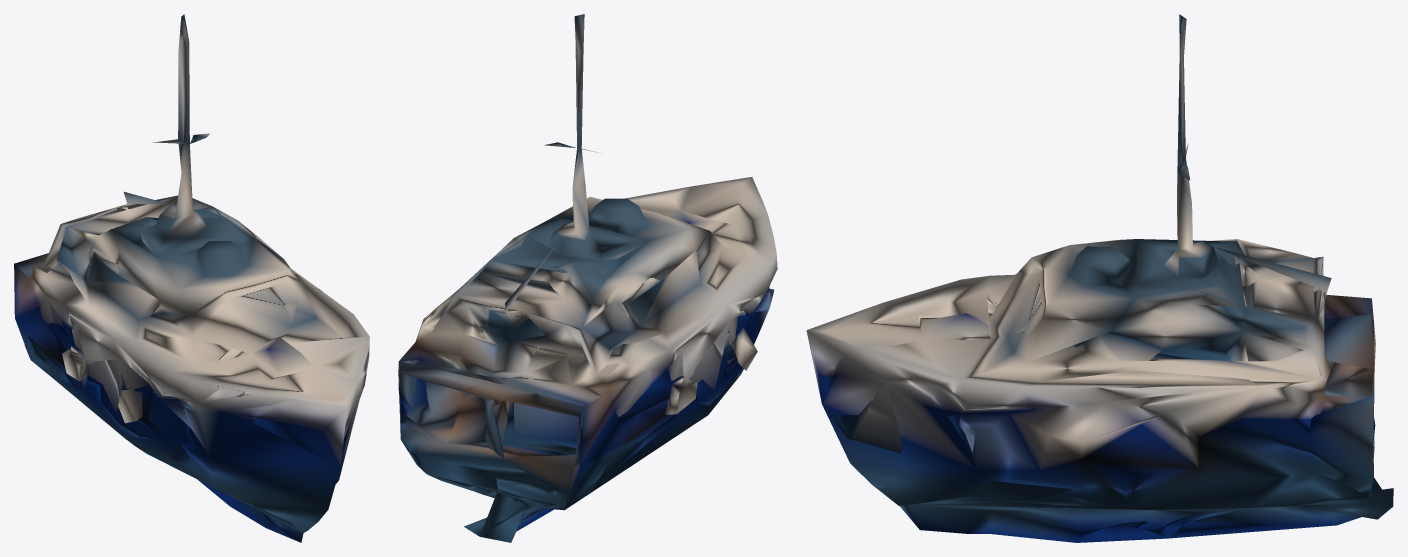
Rendered from gen3d-yacht-lod1.glb.
3 views of the same model, side by side, from view 1: azimuth 30°, elevation 25°; view 2: azimuth 150°, elevation 25°; view 3: azimuth 270°, elevation 25° (orthographic). The views are drawn at different scales.
Visible parts, largest first — view 1: part_0; view 2: part_0; view 3: part_0.
Boxes of the visible parts, left/top/right/bottom form: part_0: left=14, top=14, right=369, bottom=542; part_0: left=398, top=14, right=777, bottom=542; part_0: left=806, top=14, right=1393, bottom=542.
Bounding box in the file's own units: 0.4838 × 0.9901 × 1.
